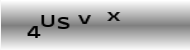4: (25, 24, 41, 39)
S: (56, 16, 69, 30)
U: (40, 13, 54, 28)
v: (77, 13, 91, 25)
x: (106, 11, 122, 22)
